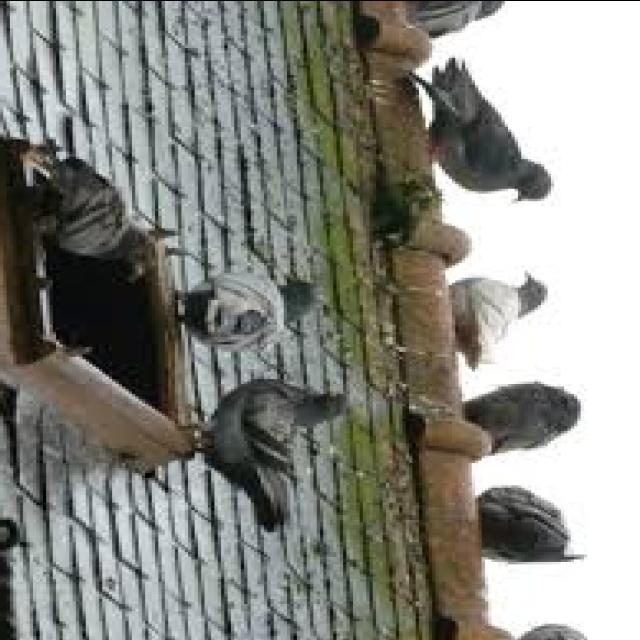pigeon: (432, 256, 570, 370)
